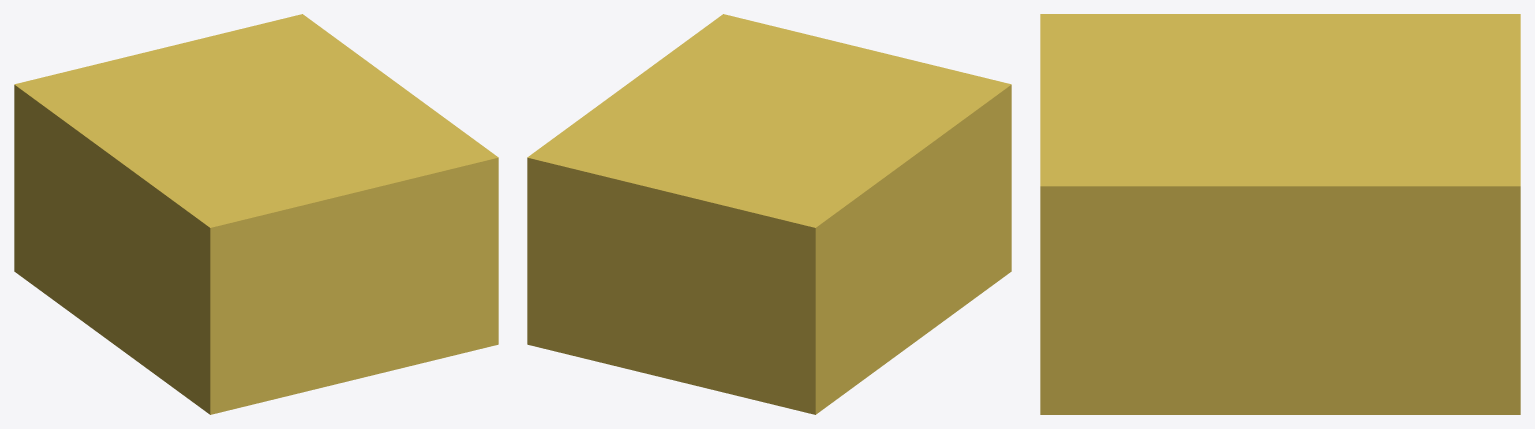
Rendered from chasmthree.DAE.
The picture shows the model from 3 angles, left to right: view 1: azimuth 30°, elevation 25°; view 2: azimuth 150°, elevation 25°; view 3: azimuth 270°, elevation 25°; orthographic projection. The views are drawn at different scales.
Visible parts, largest first — view 1: bounds; view 2: bounds; view 3: bounds.
Boxes of the visible parts, left/top/right/bottom form: bounds: left=14, top=14, right=498, bottom=414; bounds: left=527, top=14, right=1011, bottom=414; bounds: left=1040, top=14, right=1520, bottom=414.
Size of the model in its own units: 55.49 by 65.36 by 34.51.
